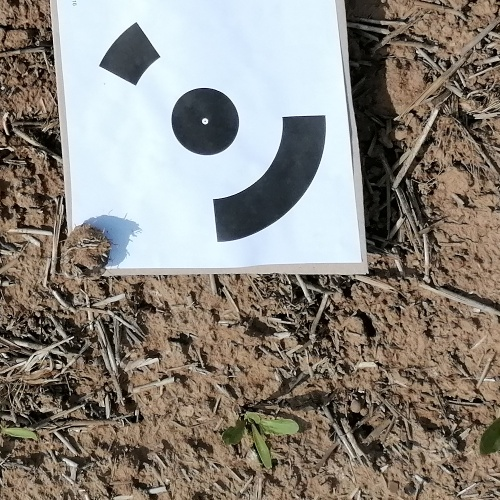beet: (221, 409, 299, 468), (479, 418, 500, 458)
